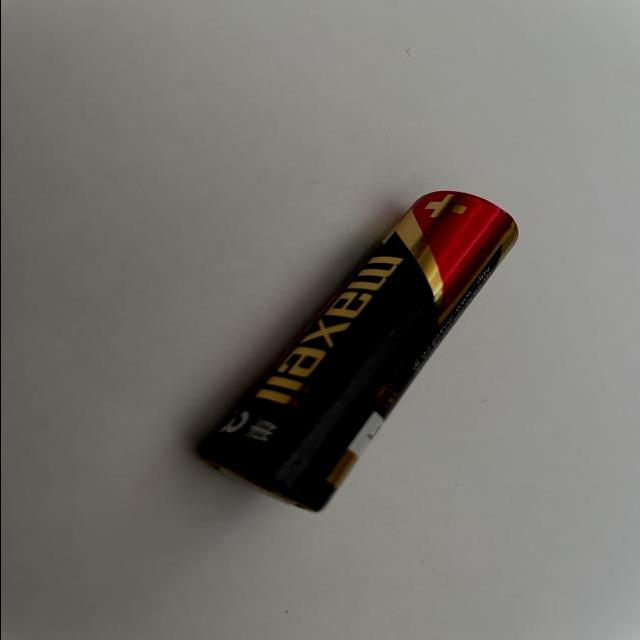AA: (192, 190, 519, 512)
